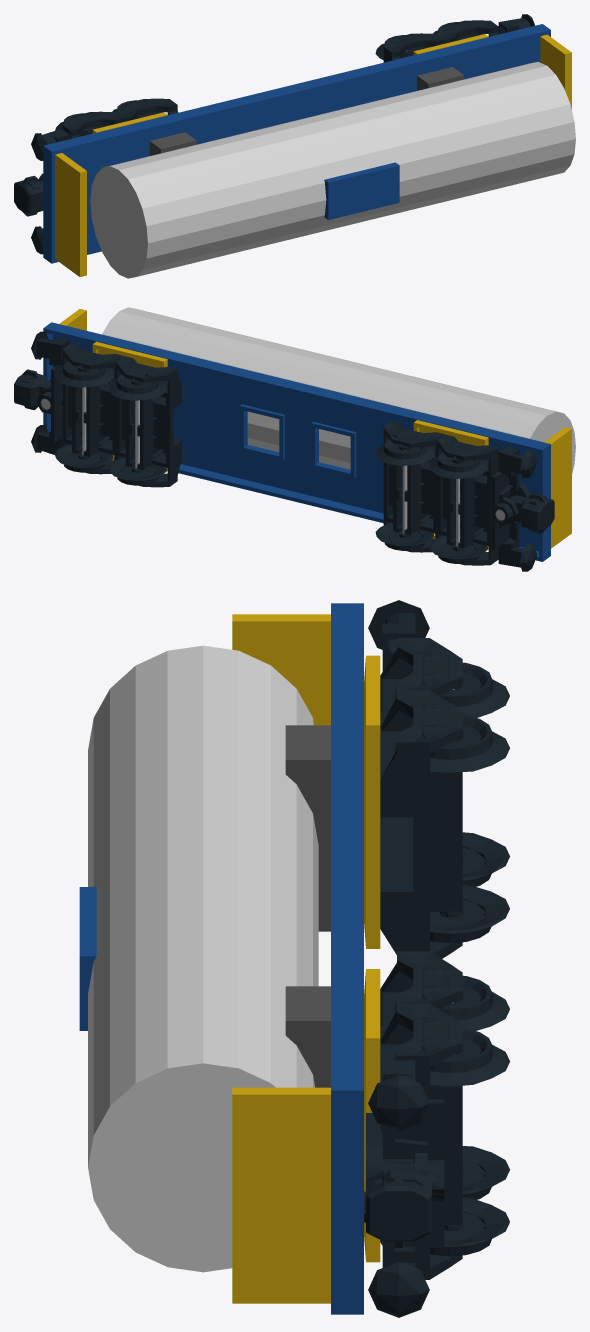
The model's file is fuel-wagon.glb.
3 renders of one model, top to bottom at view 1: azimuth 30°, elevation 25°; view 2: azimuth 150°, elevation 25°; view 3: azimuth 270°, elevation 25°, orthographic. The views are drawn at different scales.
Bounding box in the file's own units: 236 × 52 × 83.6.
